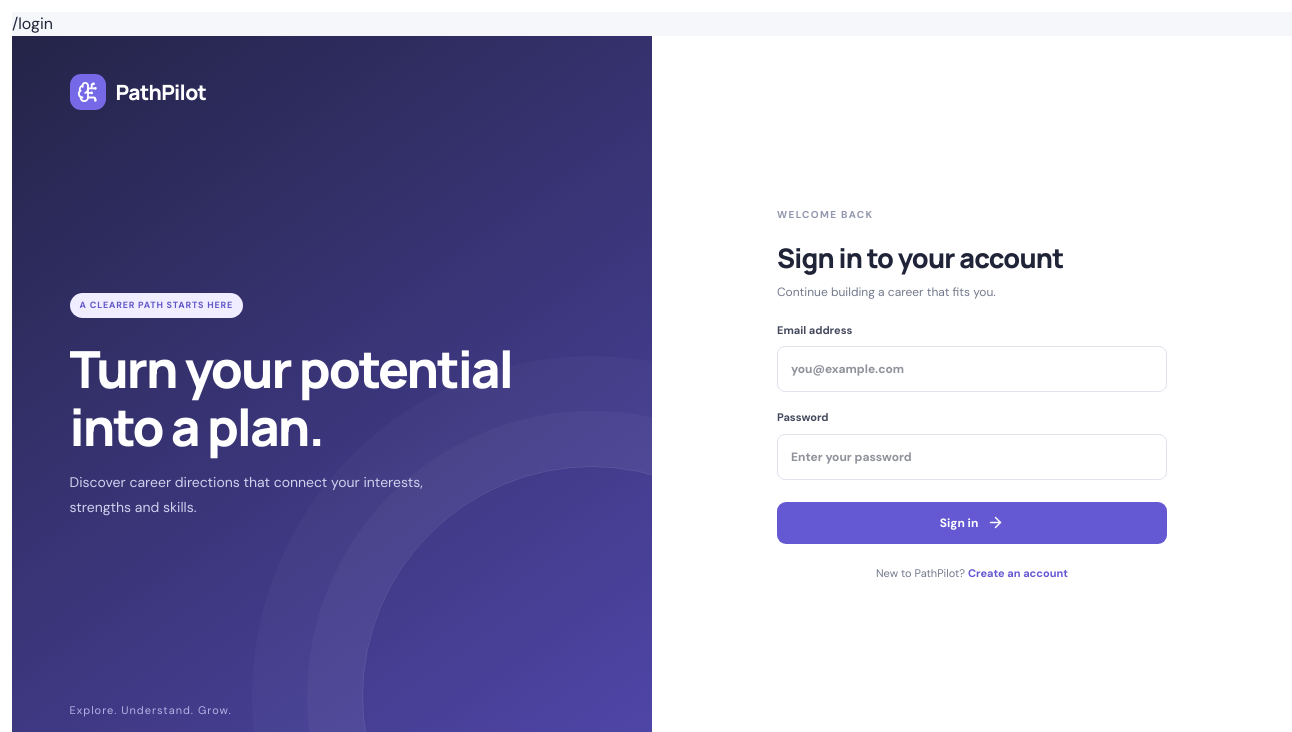
Scenario: PathPilot frontend authentication flows › shows a useful message when login fails
This screenshot has width=1292, height=732.
In the field labelled "Email address": (972, 369) left=777, top=346, right=1167, bottom=392, type "wrong@example.com"
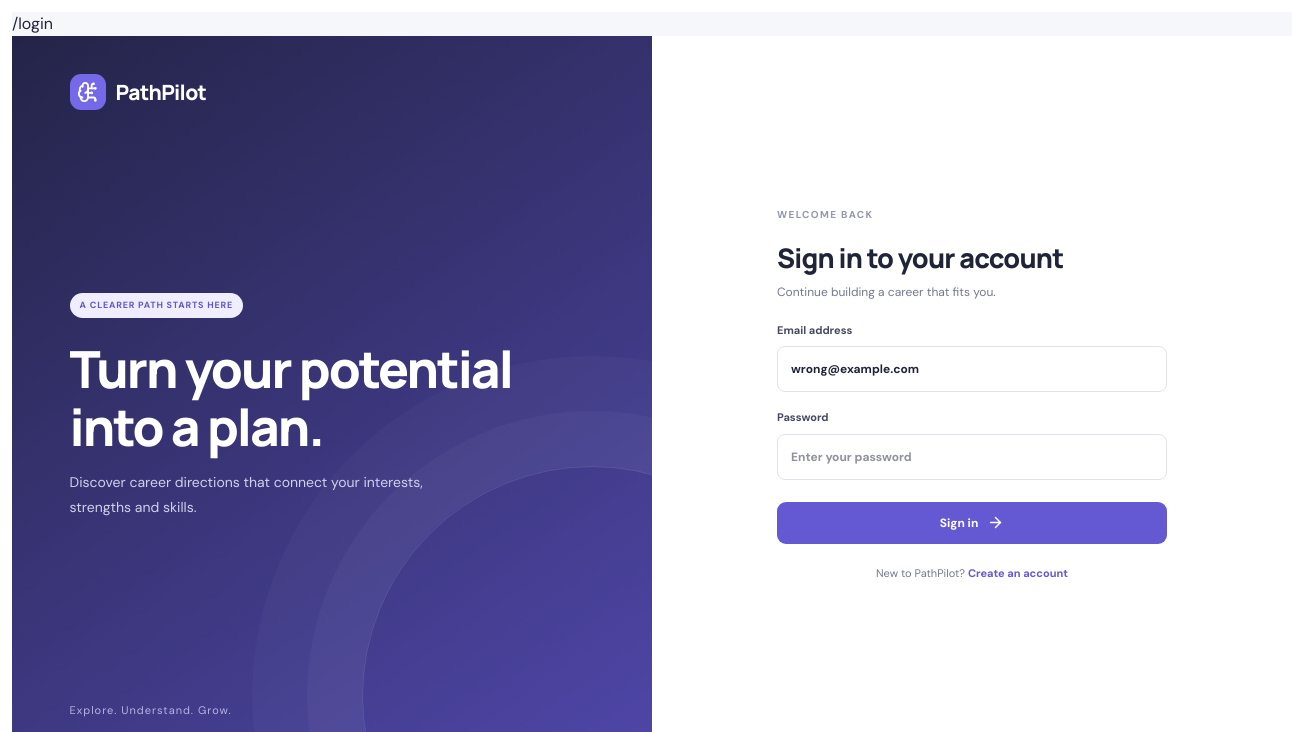
In the password field labelled "Password": (972, 457) left=777, top=434, right=1167, bottom=480, type "wrong-password"
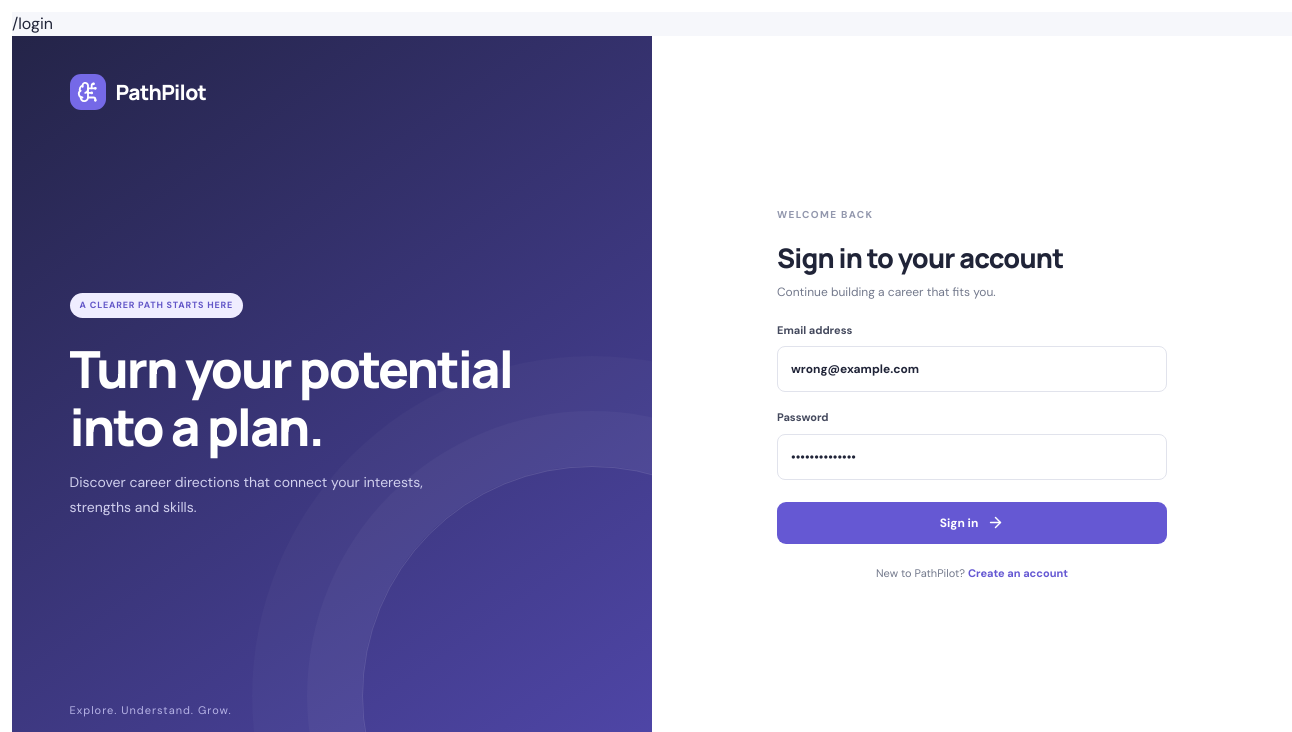
Click the button "Sign in": click(972, 523) left=777, top=502, right=1167, bottom=544
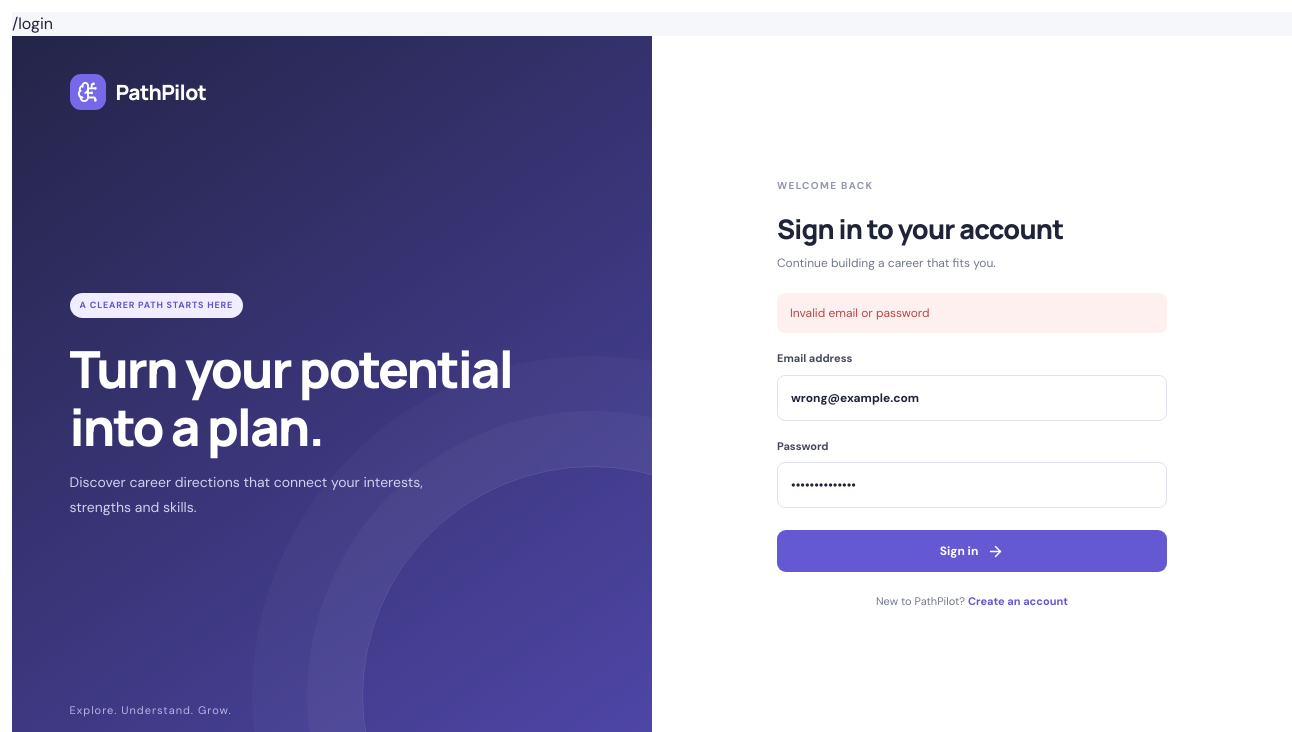
Expected: the button "Sign in" is enabled, left=777, top=530, right=1167, bottom=572
Result: the text "Invalid email or password" is shown at left=777, top=293, right=1167, bottom=333
